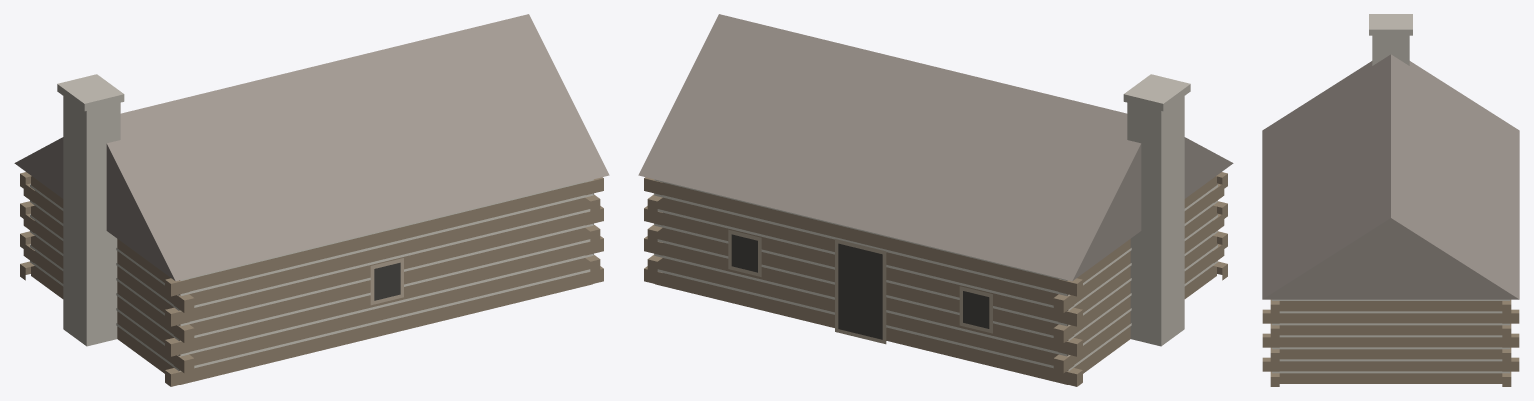
Rendered from beaubien_new_residence__log_1822.glb.
3 renders of one model, left to right at view 1: azimuth 30°, elevation 25°; view 2: azimuth 150°, elevation 25°; view 3: azimuth 270°, elevation 25°, orthographic. The views are drawn at different scales.
Parts seen in each view (by area): view 1: beaubien_new_residence__log_1822; view 2: beaubien_new_residence__log_1822; view 3: beaubien_new_residence__log_1822.
Boxes of the visible parts, bbox=[...] form: beaubien_new_residence__log_1822: bbox=[14, 14, 609, 386]; beaubien_new_residence__log_1822: bbox=[638, 14, 1233, 386]; beaubien_new_residence__log_1822: bbox=[1262, 14, 1519, 386].
Bounding box in the file's own units: 10.82 × 5.6 × 6.6.
